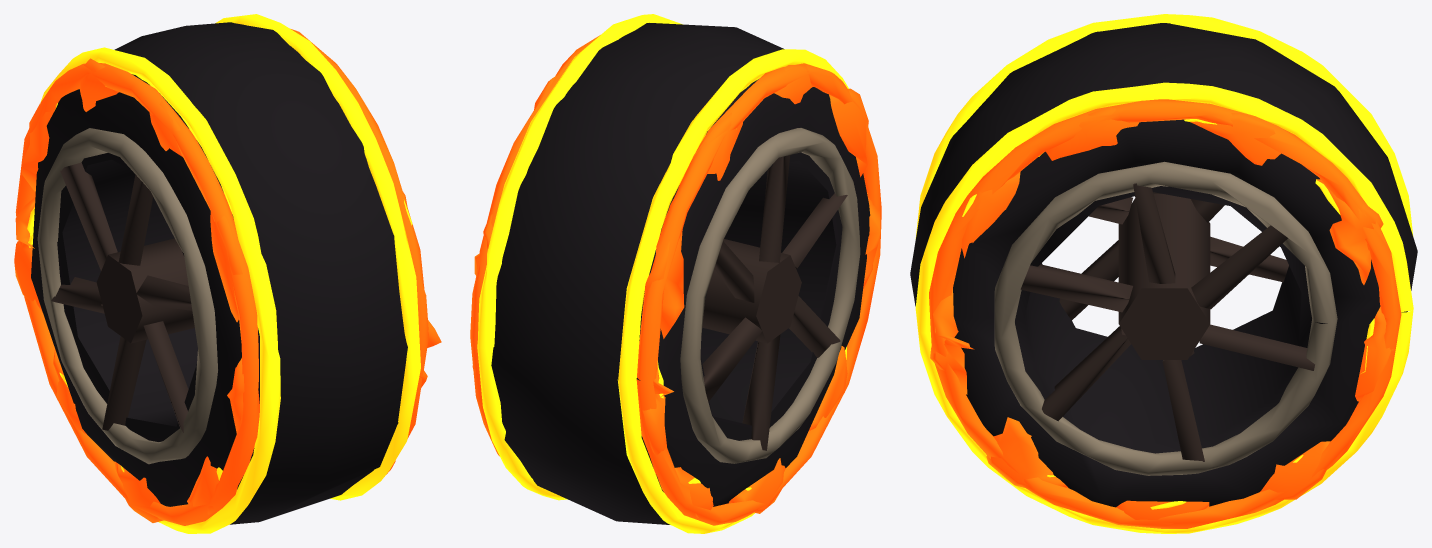
The model's file is A034-FLAME_KART_Wheel_RL_Part_01_0907_ffe06f13_LOD.glb.
3 views of the same model, side by side, from view 1: azimuth 30°, elevation 25°; view 2: azimuth 150°, elevation 25°; view 3: azimuth 270°, elevation 25° (orthographic).
Parts seen in each view (by area): view 1: FLAME_KART_Wheel_RL_Part_01; view 2: FLAME_KART_Wheel_RL_Part_01; view 3: FLAME_KART_Wheel_RL_Part_01.
Part boxes in pixels (bbox=[...]): FLAME_KART_Wheel_RL_Part_01: bbox=[14, 14, 441, 533]; FLAME_KART_Wheel_RL_Part_01: bbox=[470, 14, 881, 533]; FLAME_KART_Wheel_RL_Part_01: bbox=[910, 14, 1417, 533].
Size of the model in its own units: 0.2107 by 0.4315 by 0.4389.
